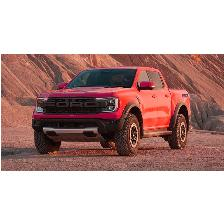NON-EV: (32, 63, 193, 158)
